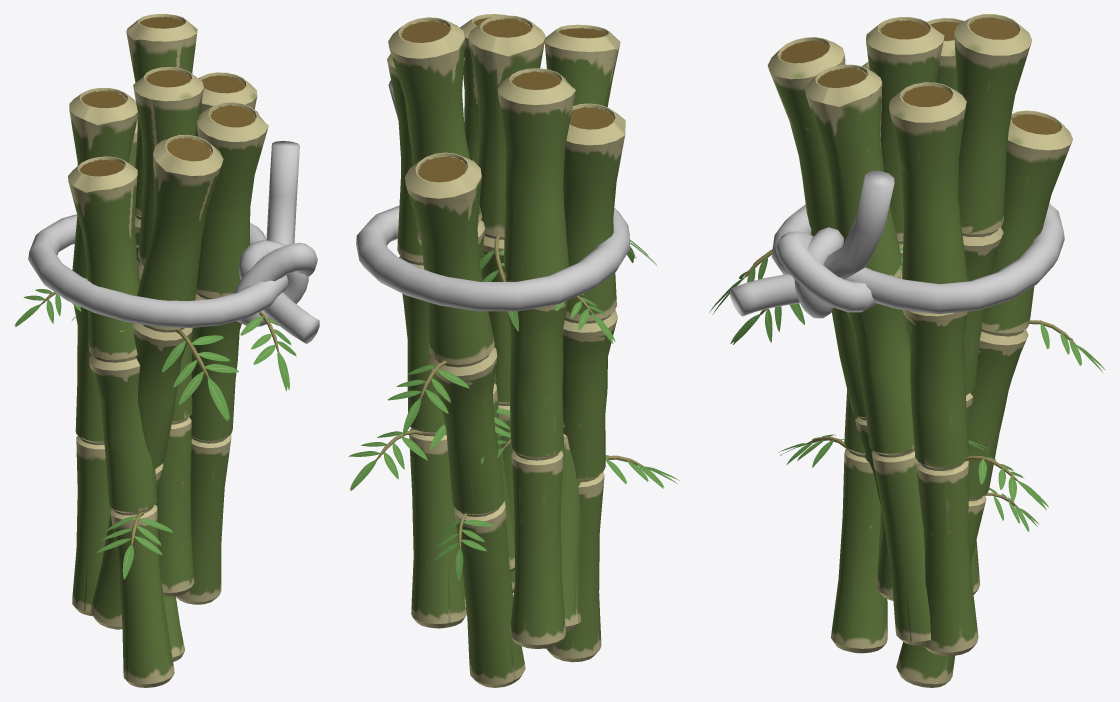
The model's file is Baamboo1.fbx.
The picture shows the model from 3 angles, left to right: view 1: azimuth 30°, elevation 25°; view 2: azimuth 150°, elevation 25°; view 3: azimuth 270°, elevation 25°; orthographic projection. The views are drawn at different scales.
Parts seen in each view (by area): view 1: Cylinder.022, Cylinder.011, BezierCurve.001, Cylinder.005, Cylinder.018, Cylinder, Cylinder.021, Cylinder.004, Cylinder.012, Cylinder.016, Cylinder.006, Cylinder.015 (+1 smaller); view 2: Cylinder.018, Cylinder.015, Cylinder.022, Cylinder.012, Cylinder, BezierCurve.001, Cylinder.021, Cylinder.005, Cylinder.011, Cylinder.020, Cylinder.008, Cylinder.013 (+3 smaller); view 3: Cylinder.012, Cylinder.011, BezierCurve.001, Cylinder.015, Cylinder.021, Cylinder.005, Cylinder.022, Cylinder, Cylinder.018, Cylinder.008, Cylinder.006, Cylinder.020 (+1 smaller).
Part boxes in pixels (x1,y1,x2,y2): Cylinder.022: [68, 156, 174, 687]; Cylinder.011: [176, 102, 268, 604]; BezierCurve.001: [28, 141, 319, 343]; Cylinder.005: [90, 135, 223, 629]; Cylinder.018: [69, 88, 138, 616]; Cylinder: [133, 67, 203, 596]; Cylinder.021: [126, 14, 197, 281]; Cylinder.004: [162, 329, 238, 421]; Cylinder.012: [196, 72, 257, 136]; Cylinder.016: [97, 512, 173, 579]; Cylinder.006: [240, 311, 296, 390]; Cylinder.015: [129, 119, 184, 661]; Cylinder.018: [497, 68, 575, 648]; Cylinder.015: [405, 152, 525, 687]; Cylinder.022: [546, 103, 625, 662]; Cylinder.012: [387, 54, 466, 628]; Cylinder: [468, 15, 545, 592]; BezierCurve.001: [356, 80, 629, 311]; Cylinder.021: [388, 17, 514, 572]; Cylinder.005: [544, 24, 620, 631]; Cylinder.011: [460, 14, 506, 610]; Cylinder.020: [387, 360, 469, 435]; Cylinder.008: [348, 430, 427, 491]; Cylinder.013: [434, 513, 493, 581]; Cylinder.012: [889, 82, 978, 655]; Cylinder.011: [805, 64, 930, 645]; BezierCurve.001: [729, 170, 1064, 318]; Cylinder.015: [896, 110, 1072, 687]; Cylinder.021: [954, 14, 1031, 425]; Cylinder.005: [767, 37, 880, 503]; Cylinder.022: [831, 62, 887, 653]; Cylinder: [866, 17, 944, 600]; Cylinder.018: [927, 18, 979, 594]; Cylinder.008: [964, 455, 1048, 510]; Cylinder.006: [730, 303, 804, 344]; Cylinder.020: [1029, 320, 1105, 373].
Bounding box in the file's own units: 264 × 631 × 335.
